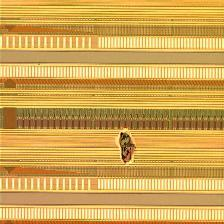PARTICLE: (112, 129, 141, 167)
